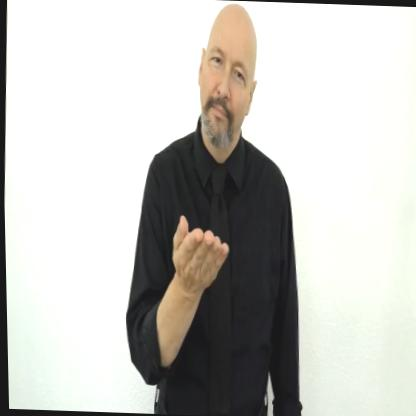ThankYou: (115, 0, 314, 416)
